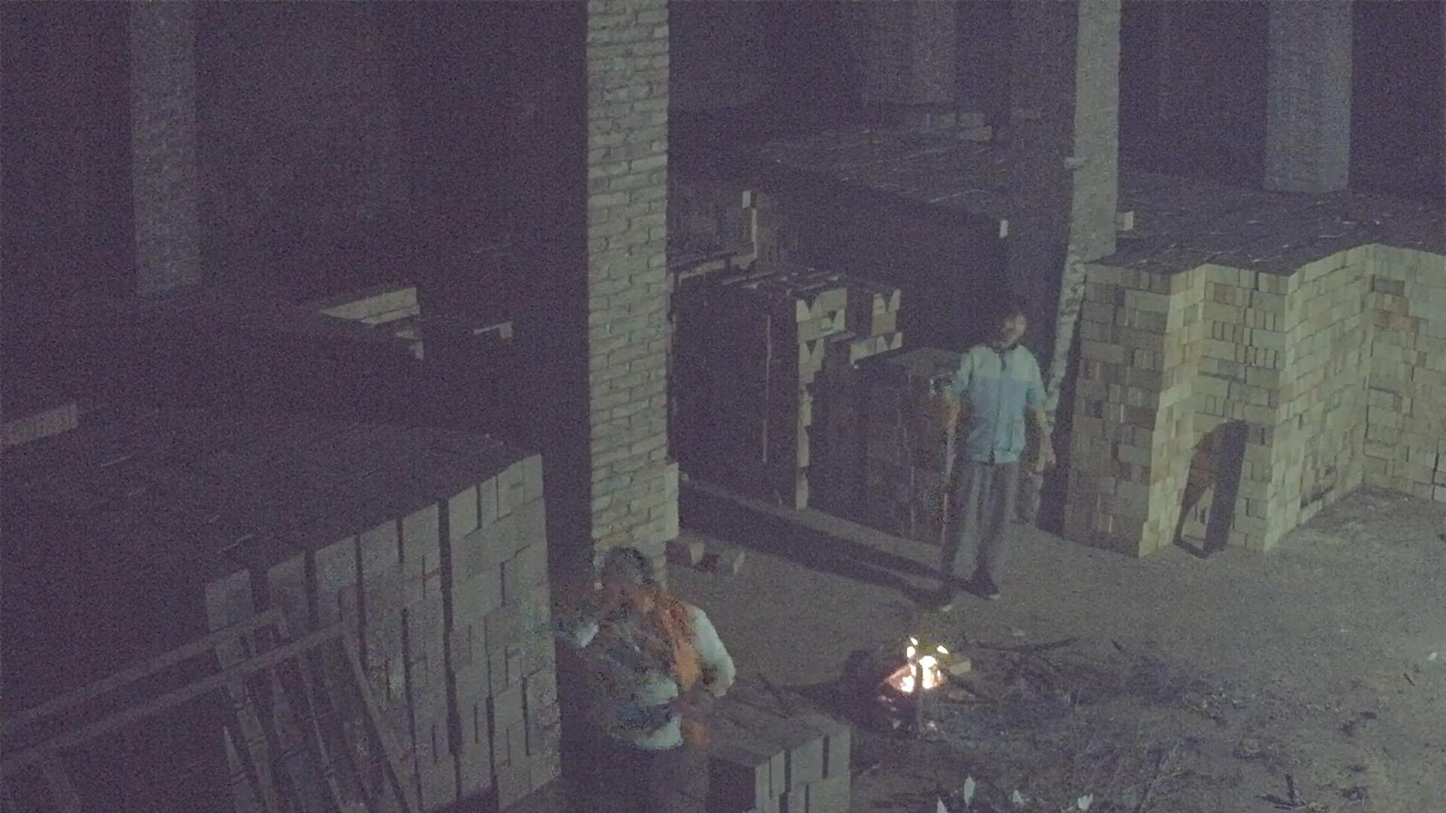fire: (885, 637, 947, 696)
